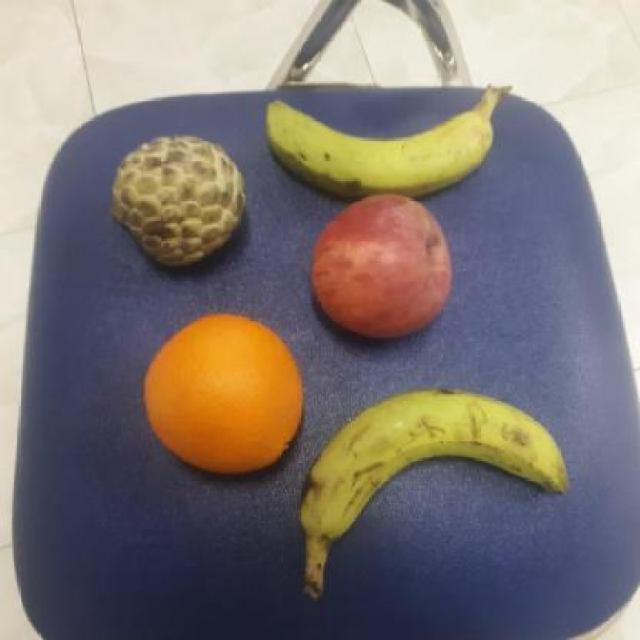apple: (311, 193, 457, 339)
banana: (296, 384, 569, 544), (258, 91, 500, 195)
oren: (141, 311, 310, 478)
sugar apple: (109, 134, 249, 271)
